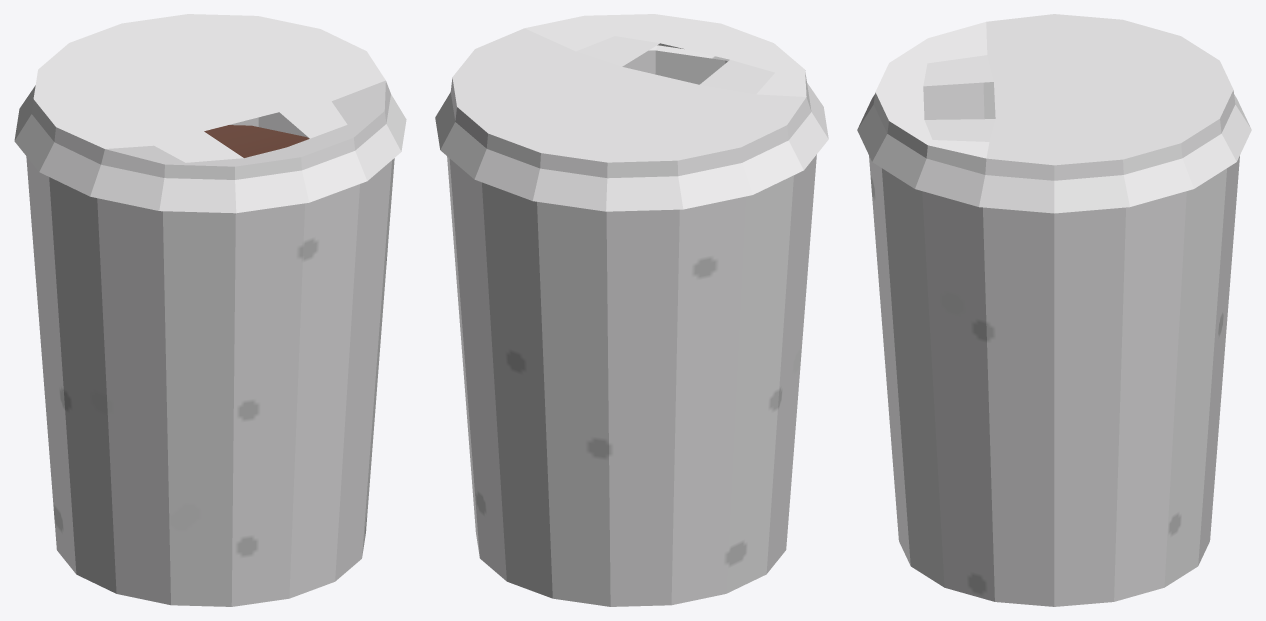
File: cup.fbx
3 views of the same model, side by side, from view 1: azimuth 30°, elevation 25°; view 2: azimuth 150°, elevation 25°; view 3: azimuth 270°, elevation 25° (orthographic).
Parts seen in each view (by area): view 1: Cylinder; view 2: Cylinder; view 3: Cylinder.
Part boxes in pixels (x1=…): Cylinder: x1=14, y1=14, x2=406, y2=606; Cylinder: x1=435, y1=14, x2=828, y2=606; Cylinder: x1=857, y1=14, x2=1251, y2=606.
Size of the model in its own units: 132 by 167 by 132.
